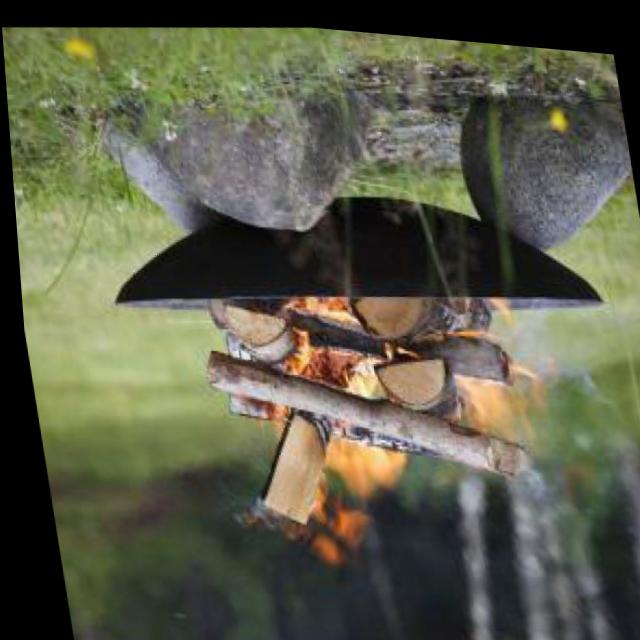Fire: (236, 295, 539, 581)
